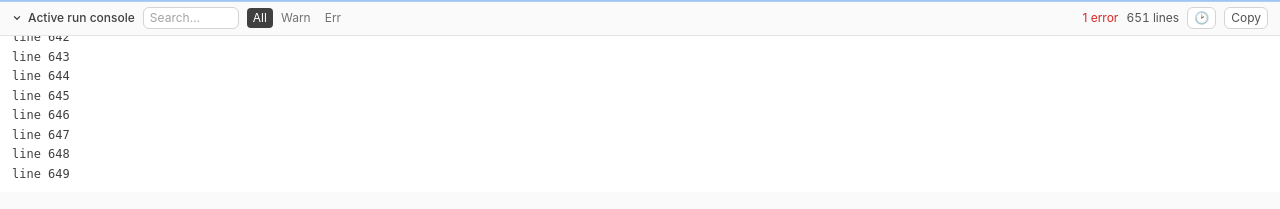
Test: Console › bounds live DOM rows while preserving counts and error navigation
(page scrolled)
Expected: the text "651 lines" is shown, [1126,10,1179,26]
Expected: the text "ERROR: earliest" is not shown
Click the button titled "Scroll to the first error": [1100, 18] box [1082,10,1118,26]
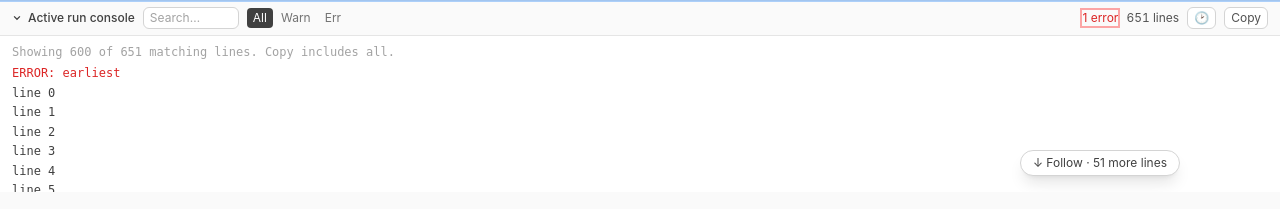
Expected: the text "ERROR: earliest" is shown, [12,66,120,80]
Expected: the text "line 649" is gone
